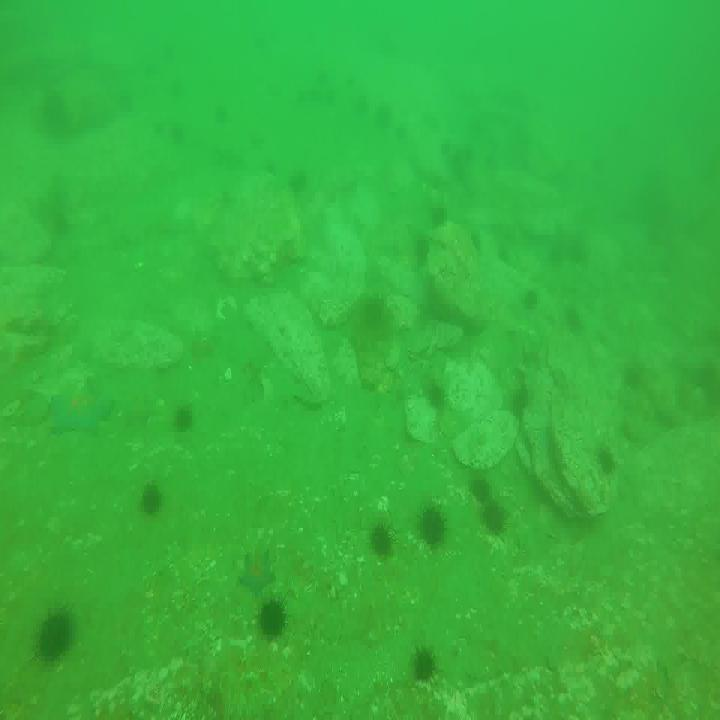echinus: (36, 607, 74, 661), (417, 501, 448, 551), (258, 598, 286, 640), (409, 646, 438, 682), (594, 441, 620, 481), (479, 500, 506, 538), (510, 386, 536, 420), (468, 477, 494, 510), (372, 518, 393, 557), (139, 482, 164, 511), (426, 380, 446, 412), (411, 233, 429, 265), (521, 289, 541, 317), (565, 306, 585, 334), (174, 405, 194, 433), (288, 172, 308, 195), (430, 203, 448, 227)
starfish: (50, 379, 111, 436), (236, 551, 275, 594)
